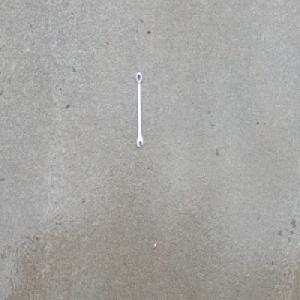Wrench: (134, 71, 144, 148)
